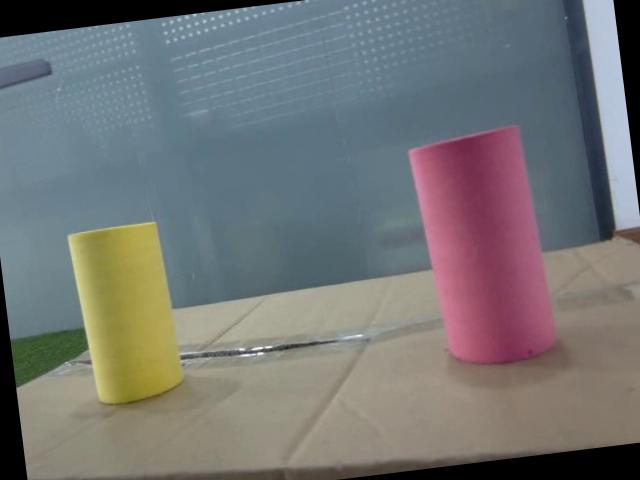red_cylinder: (406, 122, 566, 372)
yellow_cylinder: (64, 218, 190, 411)
